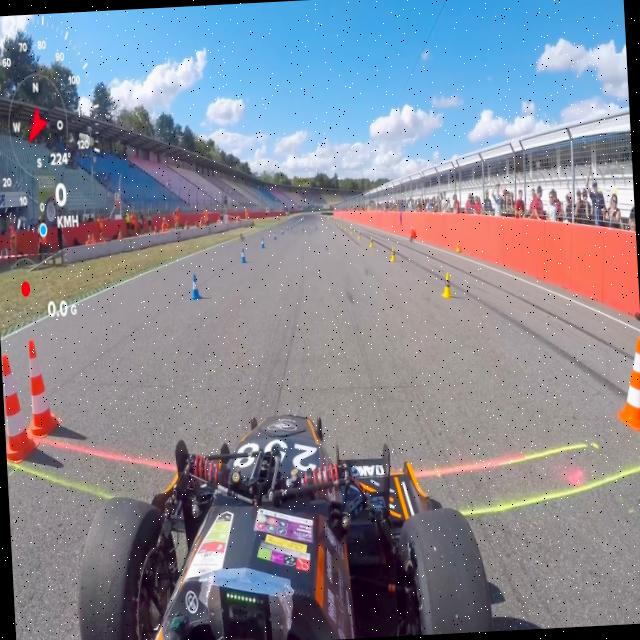blue_cone: (188, 272, 202, 302), (239, 247, 247, 264), (259, 236, 266, 250), (273, 231, 277, 240)
large_orange_cone: (18, 336, 64, 440), (1, 352, 41, 466), (611, 332, 640, 432)
yellow_cone: (440, 270, 452, 300), (389, 245, 396, 262), (368, 235, 374, 248)
